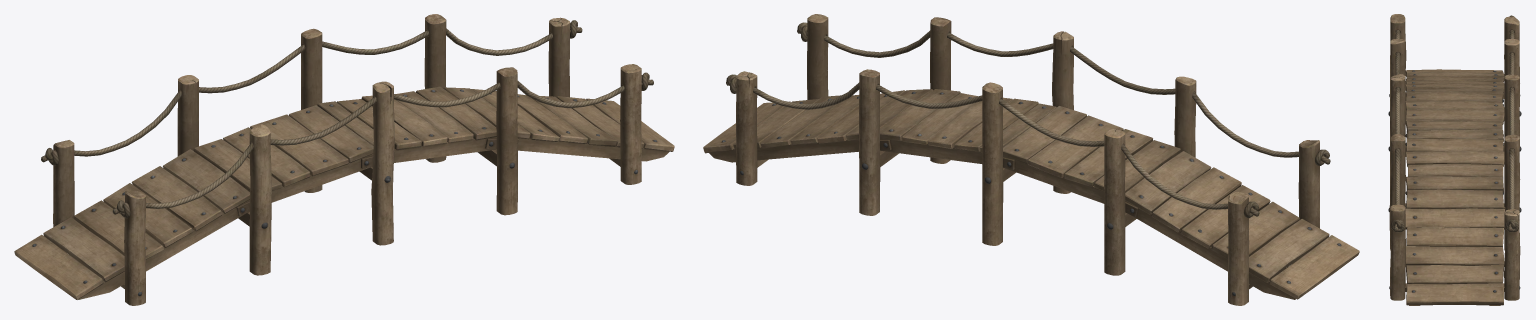
The model's file is medieval-bridge.glb.
The picture shows the model from 3 angles, left to right: view 1: azimuth 30°, elevation 25°; view 2: azimuth 150°, elevation 25°; view 3: azimuth 270°, elevation 25°; orthographic projection. The views are drawn at different scales.
Visible parts, largest first — view 1: Planks, beams, ropes, beams_for_planks, bolts, beams_holder; view 2: Planks, beams, ropes, beams_for_planks, bolts, beams_holder; view 3: Planks, beams, ropes, bolts, beams_holder.
Boxes of the visible parts, x1,y1,x2,y2 form: Planks: (14,86,674,299); beams: (53,14,641,305); ropes: (41,20,653,218); beams_for_planks: (64,137,669,299); bolts: (32,89,657,296); beams_holder: (121,149,620,288); Planks: (703,89,1359,299); beams: (736,14,1319,305); ropes: (726,22,1330,217); beams_for_planks: (709,139,1295,299); bolts: (722,91,1341,295); beams_holder: (757,150,1252,289); Planks: (1405,69,1504,305); beams: (1389,14,1520,300); ropes: (1390,15,1518,232); bolts: (1388,70,1521,292); beams_holder: (1405,92,1505,291).
Bounding box in the file's own units: 10.19 × 2.54 × 2.45.
2 materials, 2 textured.
